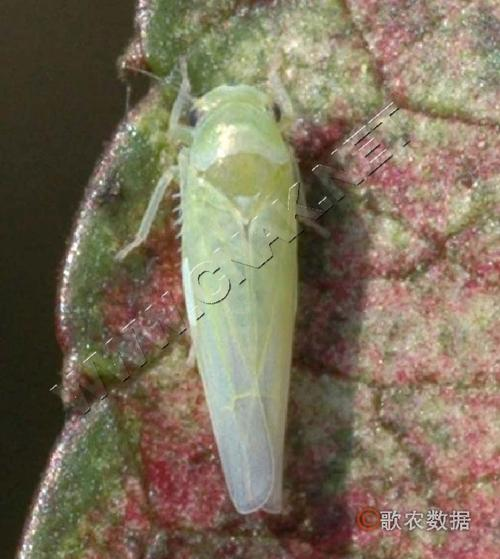Cicadellidae: (142, 63, 311, 512)
